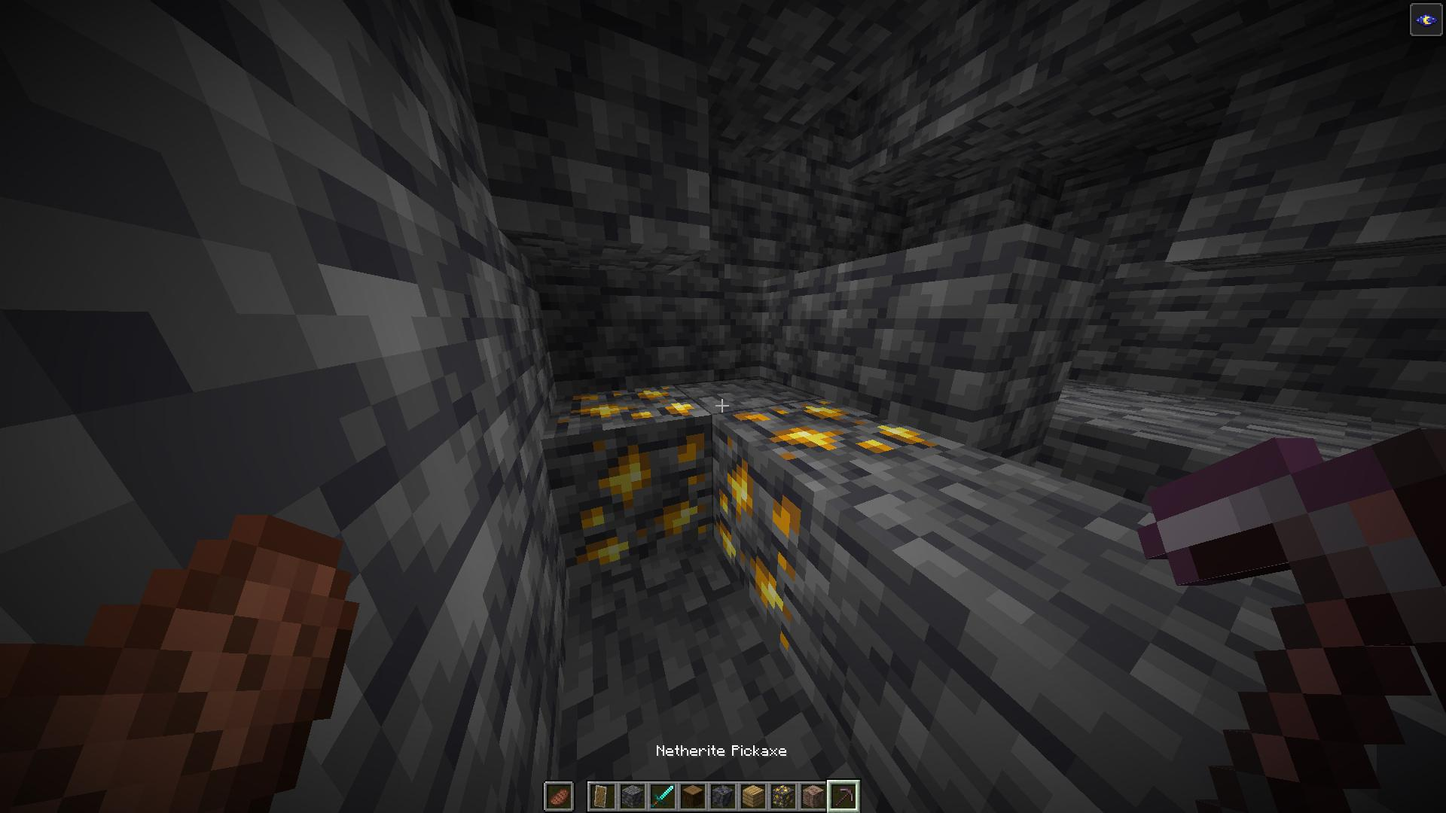gold ore: (711, 397, 964, 639), (544, 377, 714, 575)
